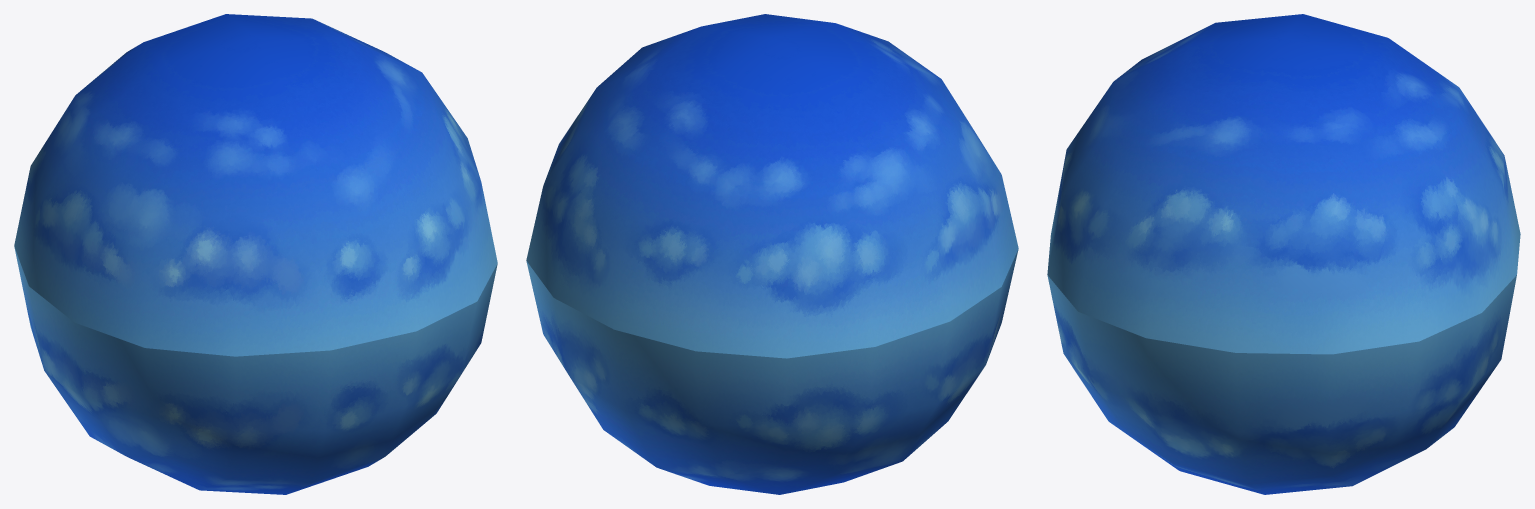
File: track01.FBX
3 renders of one model, left to right at view 1: azimuth 30°, elevation 25°; view 2: azimuth 150°, elevation 25°; view 3: azimuth 270°, elevation 25°, orthographic.
Visible parts, largest first — view 1: skybox01, skybox02; view 2: skybox01, skybox02; view 3: skybox01, skybox02.
Boxes of the visible parts, x1=… form: skybox01: x1=14, y1=14, x2=497, y2=356; skybox02: x1=14, y1=247, x2=497, y2=494; skybox01: x1=526, y1=14, x2=1018, y2=358; skybox02: x1=526, y1=249, x2=1018, y2=494; skybox01: x1=1047, y1=14, x2=1520, y2=354; skybox02: x1=1047, y1=275, x2=1516, y2=494.
Size of the model in its own units: 16250 by 16344 by 16250.
